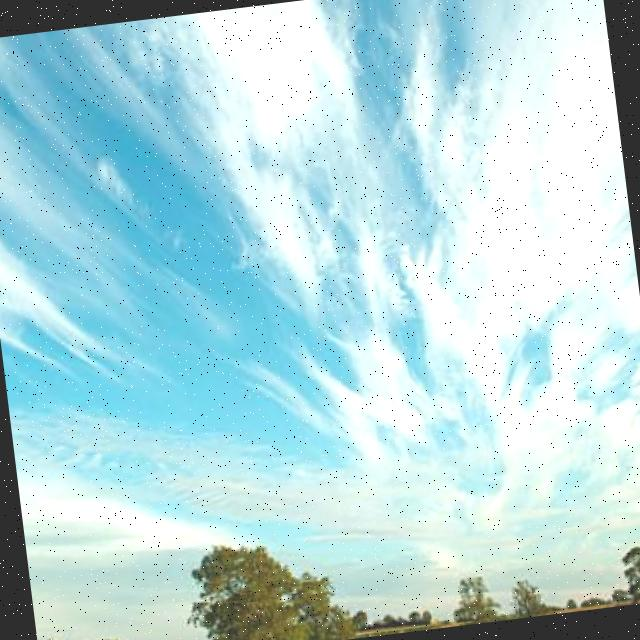Ci: (1, 1, 640, 510)
